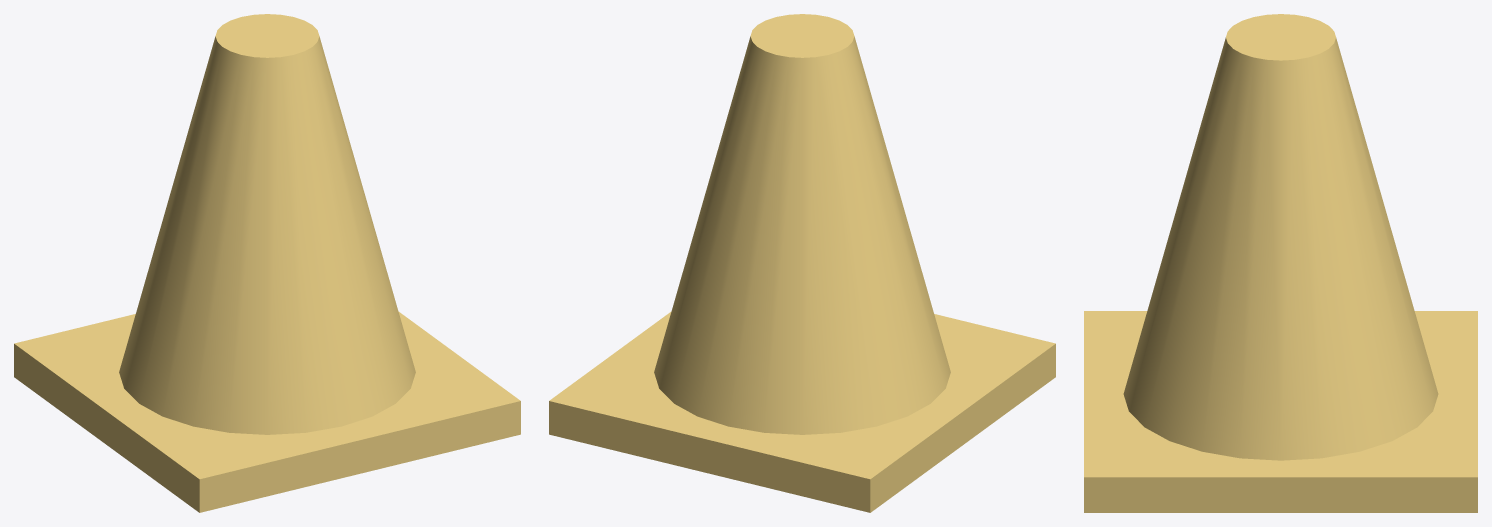
File: pylon.glb
3 views of the same model, side by side, from view 1: azimuth 30°, elevation 25°; view 2: azimuth 150°, elevation 25°; view 3: azimuth 270°, elevation 25° (orthographic). The views are drawn at different scales.
Visible parts, largest first — view 1: pylon; view 2: pylon; view 3: pylon.
Boxes of the visible parts, box(x1,y1,x2,y2) form: pylon: box(14, 14, 520, 512); pylon: box(549, 14, 1055, 512); pylon: box(1084, 14, 1477, 512).
Bounding box in the file's own units: 0.12 × 0.132 × 0.12.
